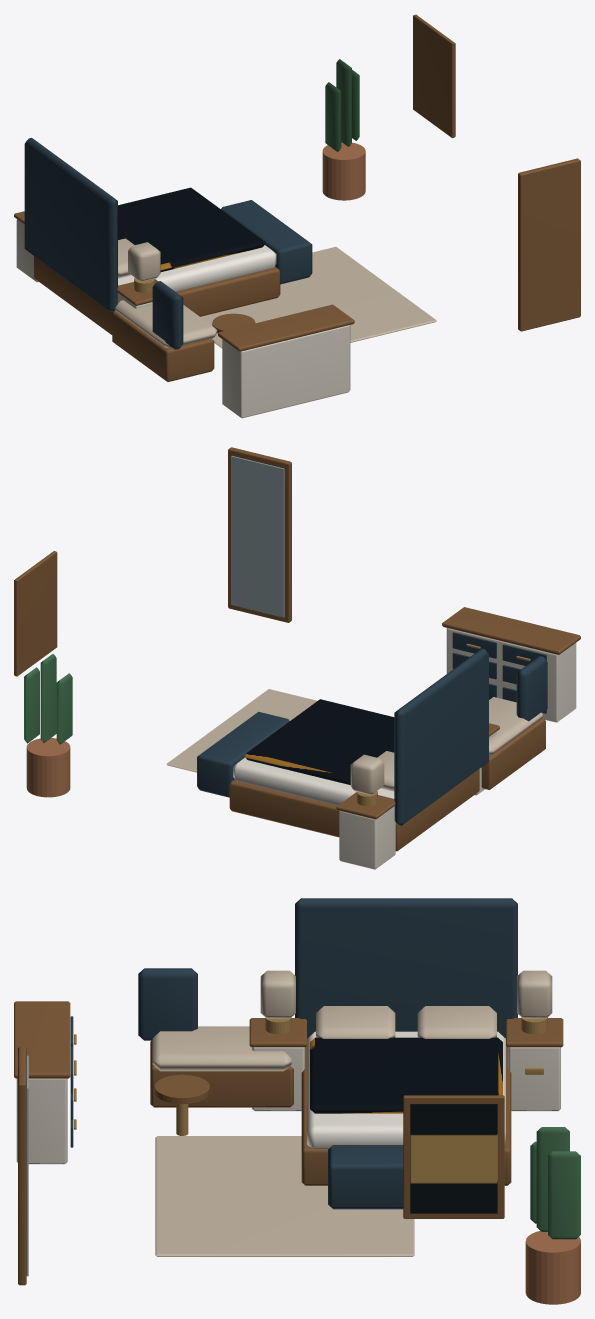
The model's file is bedroom-furniture-v002.glb.
3 renders of one model, top to bottom at view 1: azimuth 30°, elevation 25°; view 2: azimuth 150°, elevation 25°; view 3: azimuth 270°, elevation 25°, orthographic. The views are drawn at different scales.
Visible parts, largest first — view 1: Export Master bed frame; view 2: Export Master bed frame; view 3: Export Master bed frame.
Part boxes in pixels (x1,y1,x2,y2): Export Master bed frame: [14, 14, 580, 418]; Export Master bed frame: [14, 447, 580, 869]; Export Master bed frame: [14, 898, 580, 1304].
Bounding box in the file's own units: 5.24 × 2.32 × 5.14.
Materials: 11 (2 with a texture image).
